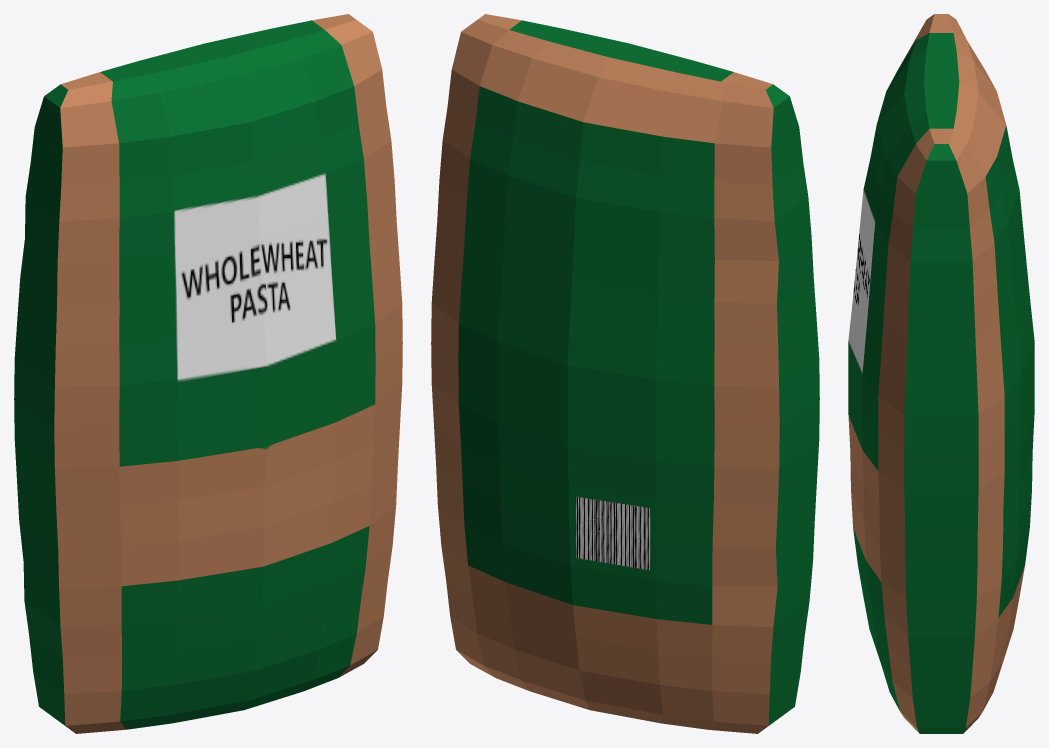
Rendered from wholewheat_pasta.glb.
The picture shows the model from 3 angles, left to right: view 1: azimuth 30°, elevation 25°; view 2: azimuth 150°, elevation 25°; view 3: azimuth 270°, elevation 25°; orthographic projection. The views are drawn at different scales.
Parts seen in each view (by area): view 1: Cube; view 2: Cube; view 3: Cube.
Boxes of the visible parts, x1,y1,x2,y2 form: Cube: (14, 14, 402, 733); Cube: (431, 14, 819, 733); Cube: (848, 14, 1034, 733).
Bounding box in the file's own units: 0.2 × 0.35 × 0.1.
1 material, 1 textured.
